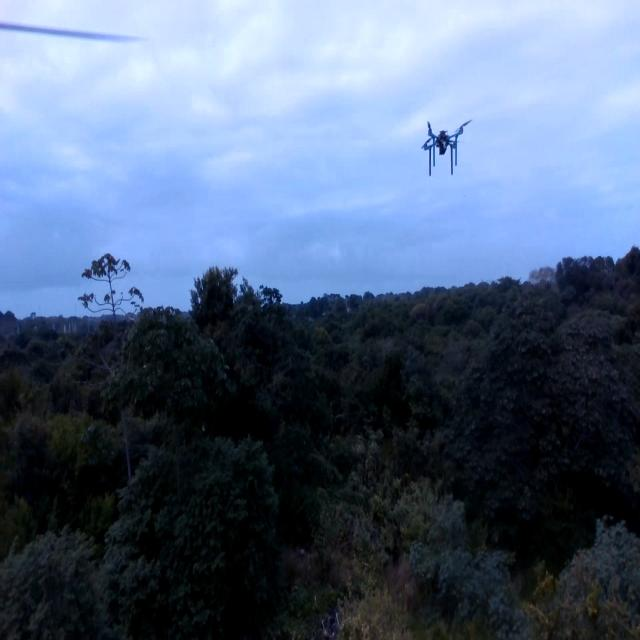-uav-: (409, 107, 478, 179)
